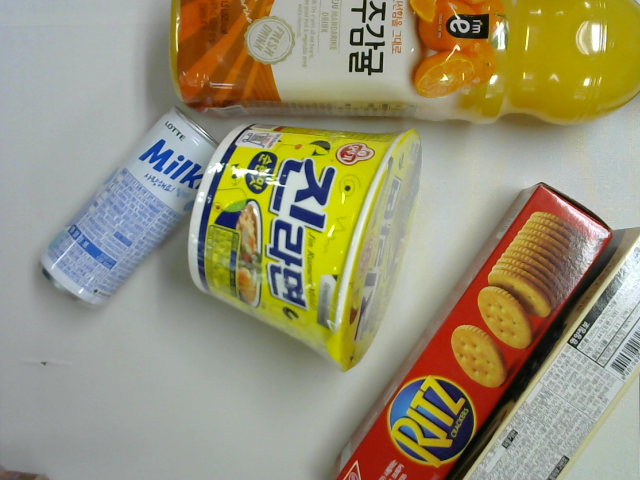Chicchok_Tiramisu: (456, 225, 639, 480)
Jeju_Tangerine_1.5L: (169, 1, 637, 122)
Jinlamyeon_Mild_Taste_Large_Cup: (183, 116, 429, 376)
Milkies_250ml: (34, 104, 224, 313)
Ritz_Cracker: (332, 178, 615, 480)
